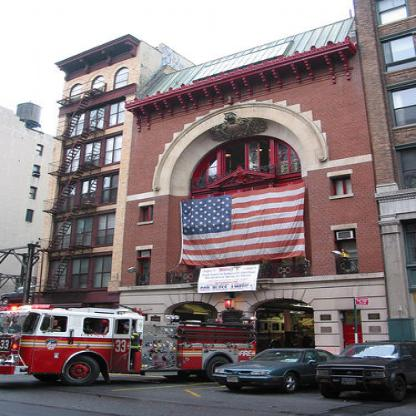car: (316, 340, 415, 402), (213, 342, 337, 390), (0, 282, 38, 304)
